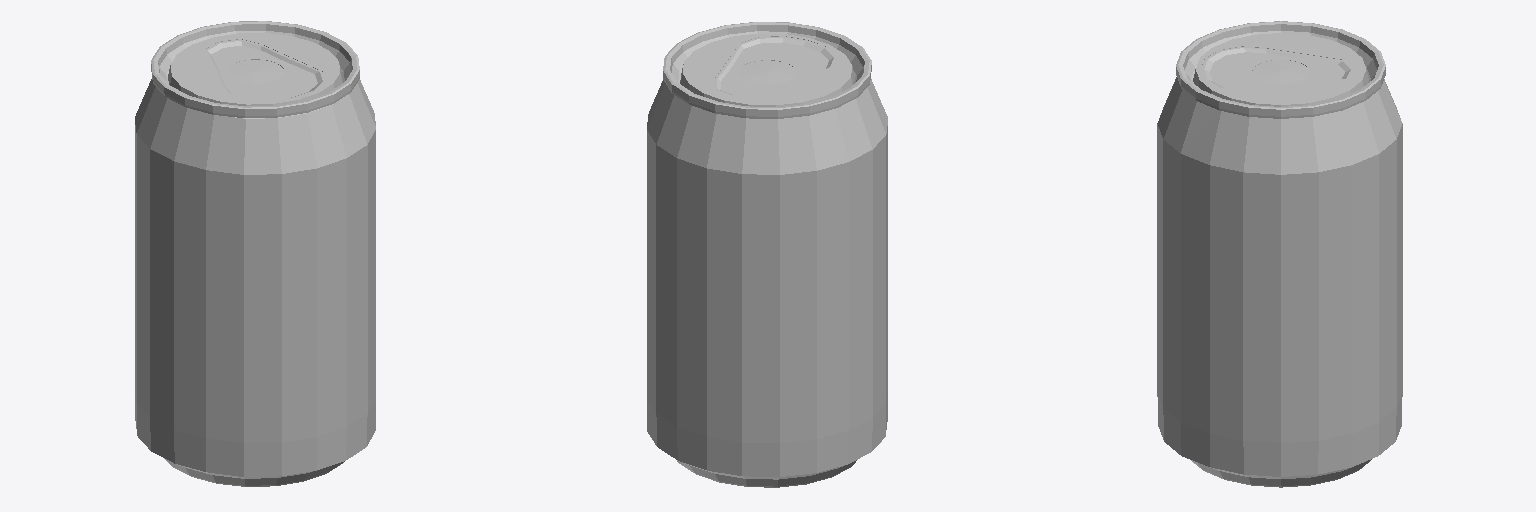
Rendered from Coke 3.obj.
3 views of the same model, side by side, from view 1: azimuth 30°, elevation 25°; view 2: azimuth 150°, elevation 25°; view 3: azimuth 270°, elevation 25° (orthographic).
Parts seen in each view (by area): view 1: pCylinder1; view 2: pCylinder1; view 3: pCylinder1.
Boxes of the visible parts, box(x1,y1,x2,y2) form: pCylinder1: box(135, 21, 375, 486); pCylinder1: box(647, 22, 887, 487); pCylinder1: box(1157, 21, 1402, 487).
Bounding box in the file's own units: 5.49 × 9.53 × 5.54.